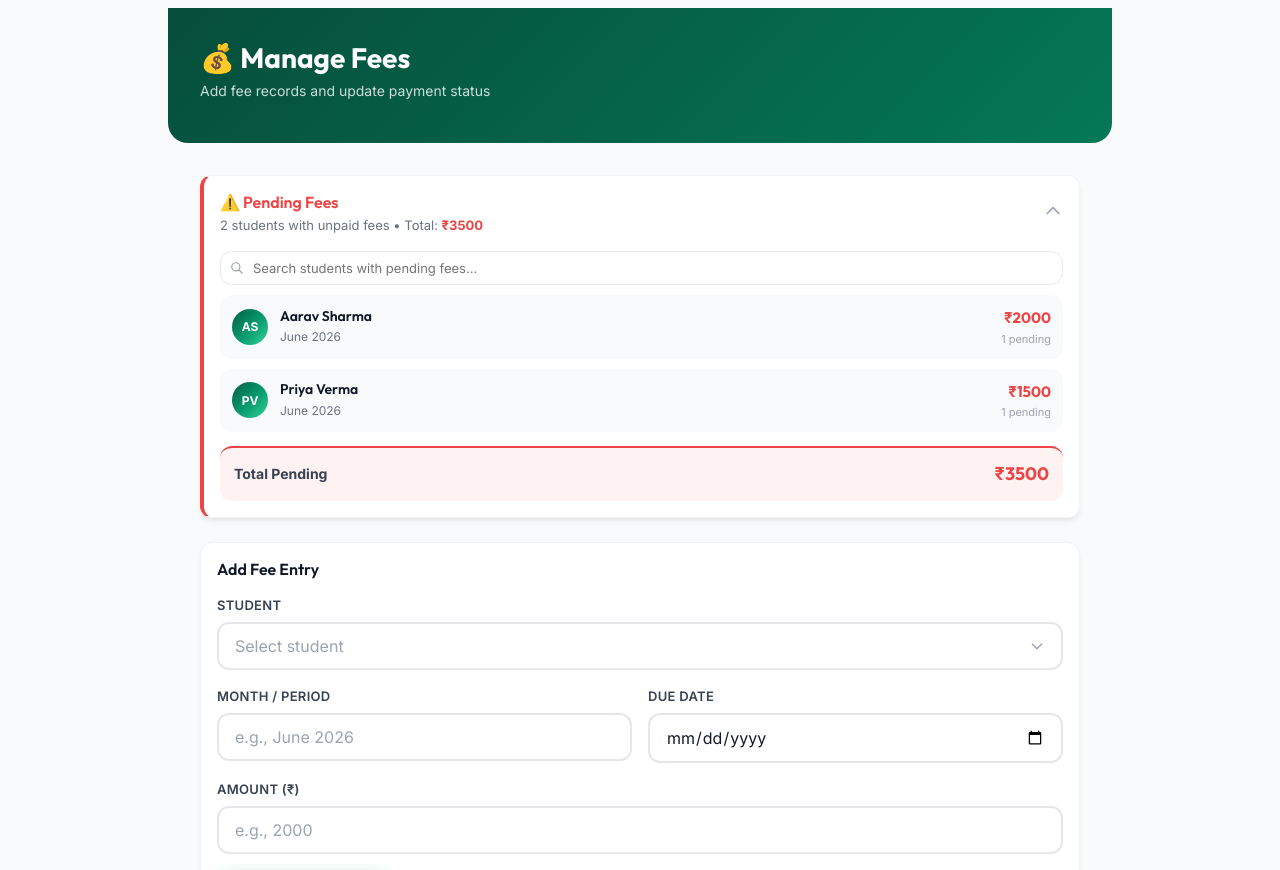
FeeForm — search inside the student picker › opening reveals a search box and every student
expect the heading "Add Fee Entry" is shown: met, box [217,558,319,578]
Click the button with id "fee-student" at (289, 646), box [217,622,1063,670]
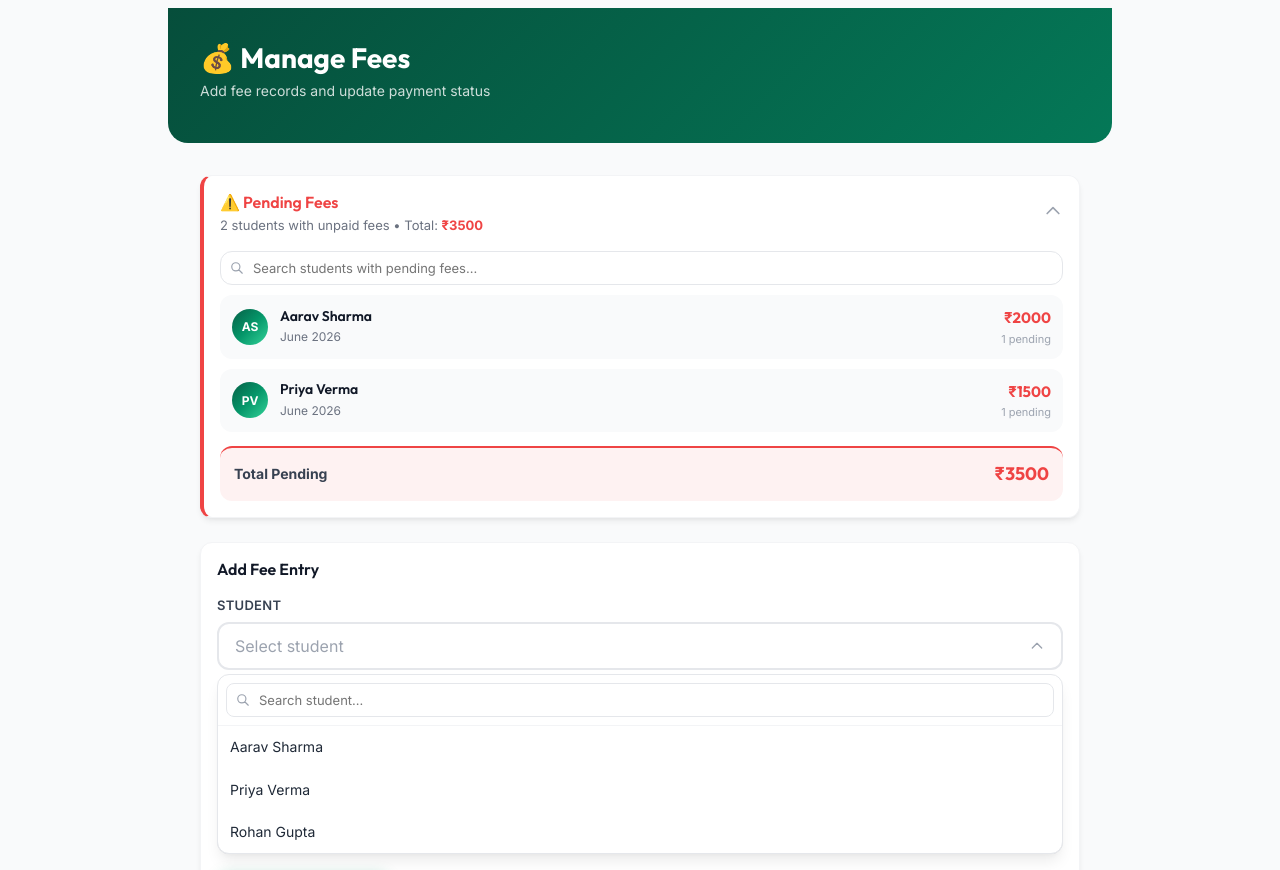
expect the field with placeholder "Search student..." is shown: met, box [226,683,1054,717]
expect the number of options is 3: met, box [230,738,323,755]; [230,780,310,798]; [230,823,315,840]
